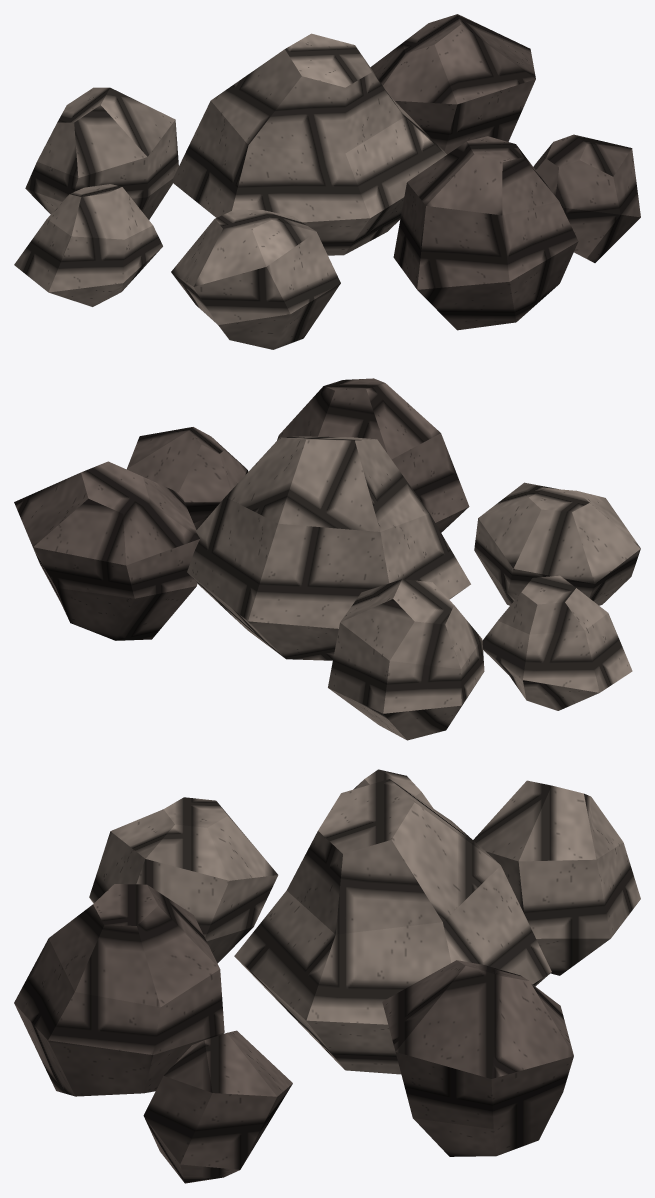
The model's file is rocks.glb.
3 views of the same model, one above another, from view 1: azimuth 30°, elevation 25°; view 2: azimuth 150°, elevation 25°; view 3: azimuth 270°, elevation 25° (orthographic). The views are drawn at different scales.
Parts seen in each view (by area): view 1: rock_0_mesh, rock_3_mesh, rock_4_mesh, rock_1_mesh, rock_2_mesh, rock_6_mesh, rock_5_mesh; view 2: rock_0_mesh, rock_1_mesh, rock_2_mesh, rock_4_mesh, rock_6_mesh, rock_3_mesh, rock_5_mesh; view 3: rock_0_mesh, rock_3_mesh, rock_1_mesh, rock_2_mesh, rock_4_mesh, rock_5_mesh, rock_6_mesh.
Part boxes in pixels (x1,y1,x2,y2): rock_0_mesh: [171, 33, 446, 255]; rock_3_mesh: [393, 136, 578, 330]; rock_4_mesh: [171, 209, 340, 349]; rock_1_mesh: [370, 14, 535, 154]; rock_2_mesh: [25, 87, 178, 219]; rock_6_mesh: [14, 184, 162, 306]; rock_5_mesh: [533, 134, 640, 262]; rock_0_mesh: [187, 436, 470, 660]; rock_1_mesh: [14, 461, 199, 640]; rock_2_mesh: [328, 579, 484, 740]; rock_4_mesh: [474, 482, 640, 605]; rock_6_mesh: [482, 575, 632, 710]; rock_3_mesh: [277, 378, 469, 532]; rock_5_mesh: [126, 427, 248, 529]; rock_0_mesh: [234, 779, 551, 1074]; rock_3_mesh: [14, 884, 224, 1096]; rock_1_mesh: [382, 960, 573, 1156]; rock_2_mesh: [473, 780, 640, 975]; rock_4_mesh: [89, 797, 278, 963]; rock_5_mesh: [143, 1030, 292, 1183]; rock_6_mesh: [353, 769, 433, 808].
Size of the model in its own units: 1.42 by 0.5347 by 1.14.
Materials: 2 (2 with a texture image).
